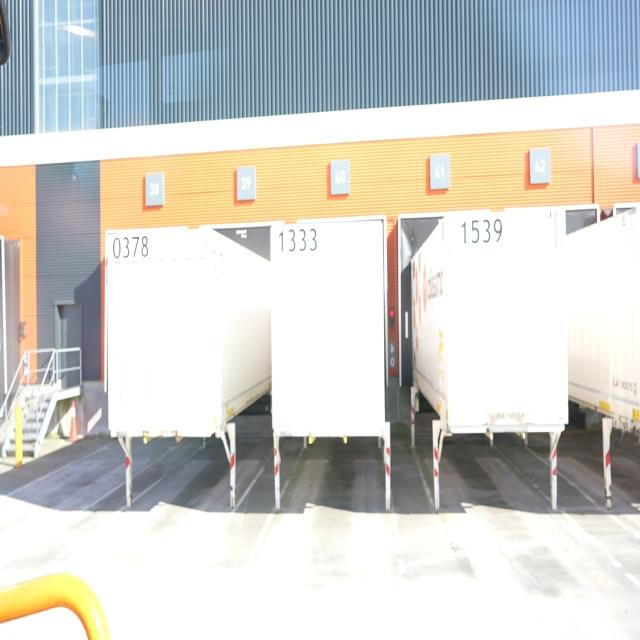Code: (274, 222, 328, 264), (454, 212, 510, 252), (111, 225, 151, 263)
